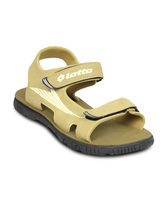shoes: (6, 44, 160, 156)
